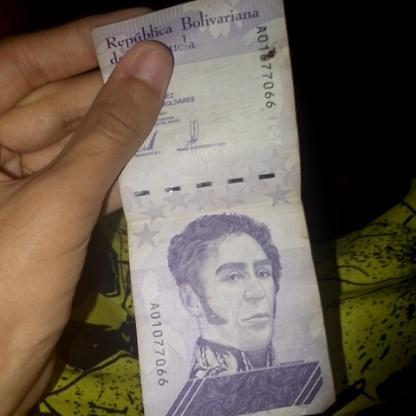ten-front-vef: (124, 2, 341, 416)
